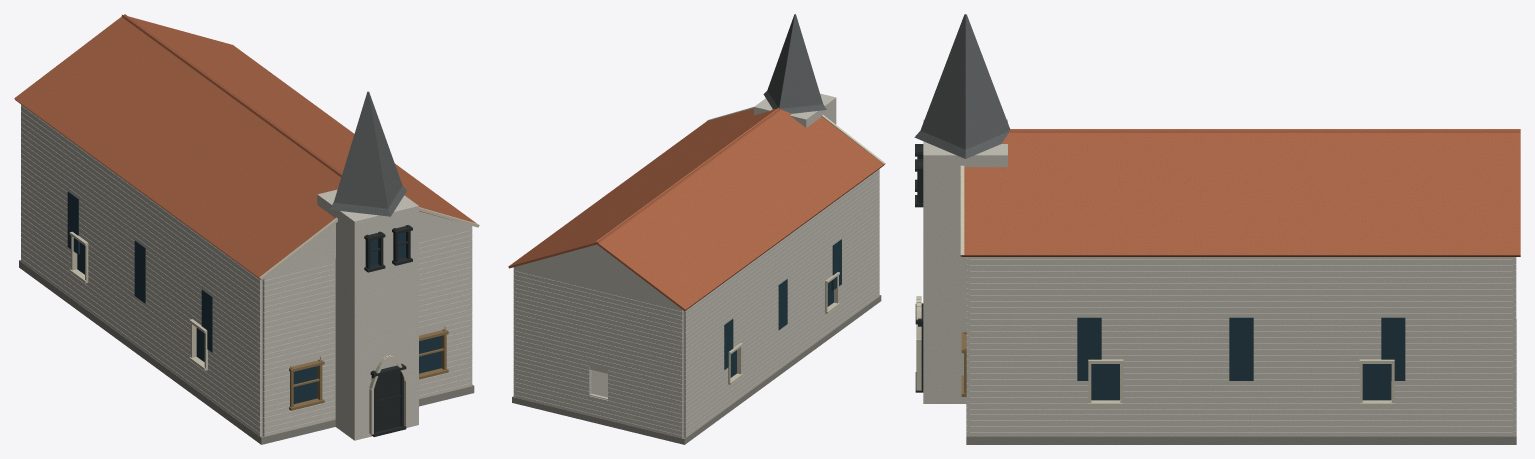
Rendered from CHURCH2_lod2.glb.
The picture shows the model from 3 angles, left to right: view 1: azimuth 30°, elevation 25°; view 2: azimuth 150°, elevation 25°; view 3: azimuth 270°, elevation 25°; orthographic projection. The views are drawn at different scales.
Parts seen in each view (by area): view 1: CHURCH2_LOD2; view 2: CHURCH2_LOD2; view 3: CHURCH2_LOD2.
Boxes of the visible parts, x1,y1,x2,y2 form: CHURCH2_LOD2: [14, 14, 479, 444]; CHURCH2_LOD2: [508, 14, 885, 444]; CHURCH2_LOD2: [914, 14, 1520, 444].
Bounding box in the file's own units: 9.51 × 13.6 × 20.11.
Materials: 11 (9 with a texture image).
